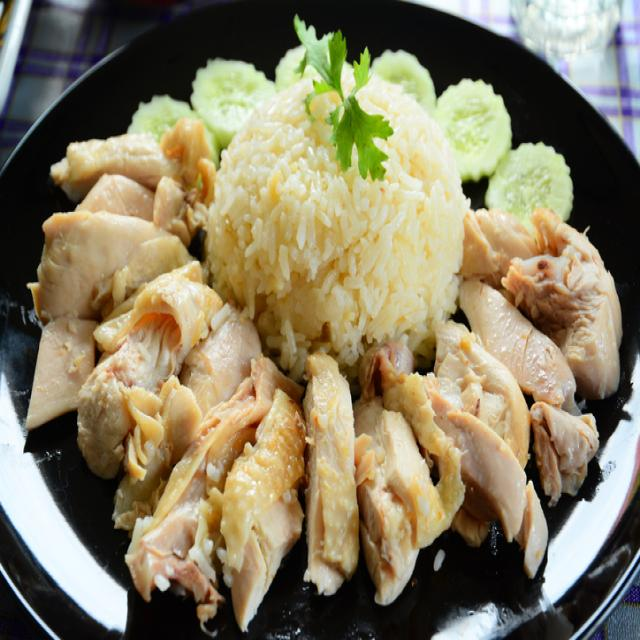Carbohydrate: (212, 64, 454, 348)
Kaow-Mankai: (0, 17, 640, 620)
Protein: (24, 109, 624, 634)
Vegetable: (125, 24, 585, 226)
